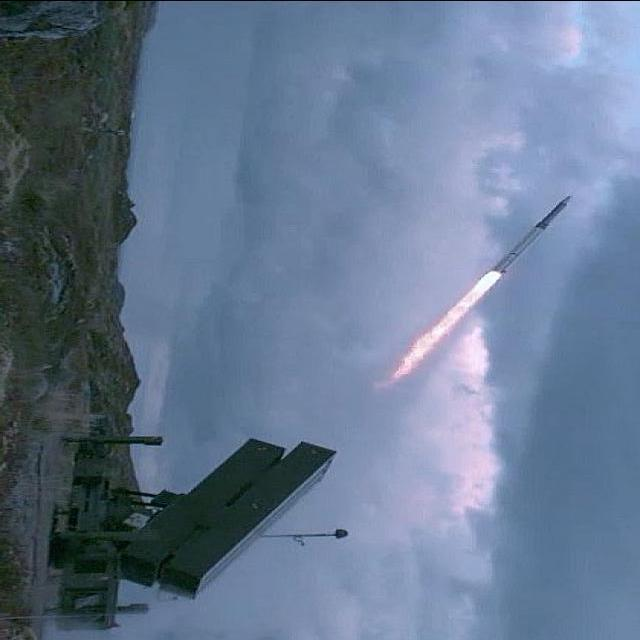missile: (486, 184, 578, 284)
